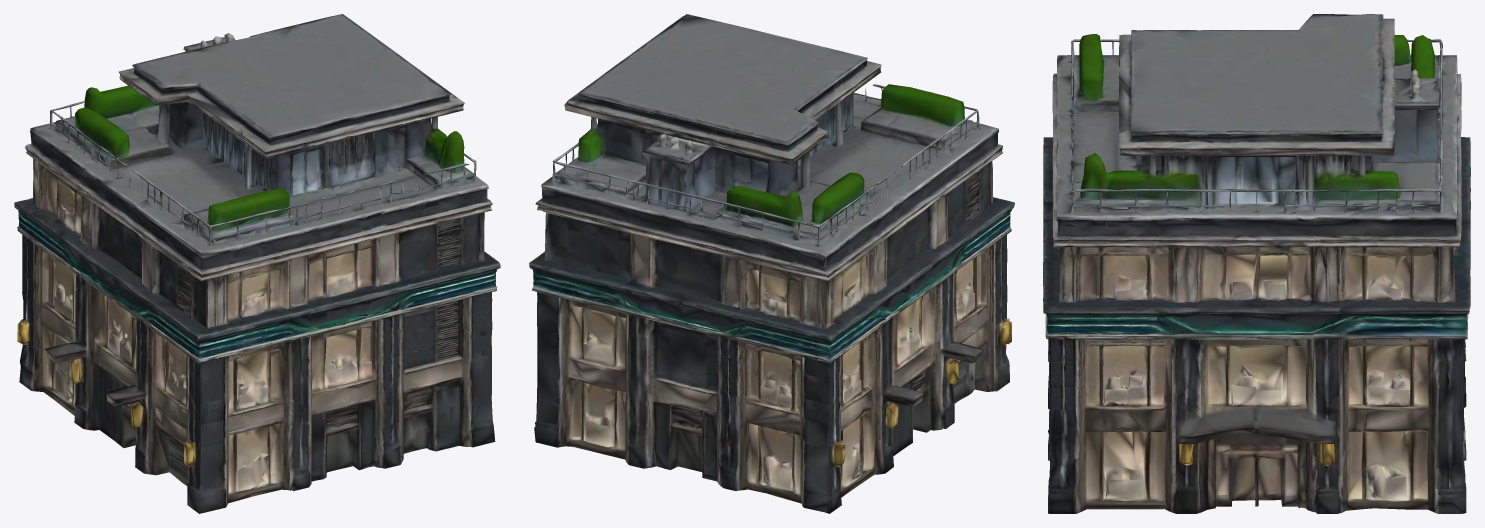
Rendered from au_bld_emporium.glb.
3 views of the same model, side by side, from view 1: azimuth 30°, elevation 25°; view 2: azimuth 150°, elevation 25°; view 3: azimuth 270°, elevation 25° (orthographic). The views are drawn at different scales.
Parts seen in each view (by area): view 1: tripo_node_2c83734f-9e3d-4af6-a690-40f0e76608e9; view 2: tripo_node_2c83734f-9e3d-4af6-a690-40f0e76608e9; view 3: tripo_node_2c83734f-9e3d-4af6-a690-40f0e76608e9.
Part boxes in pixels (bbox=[...]): tripo_node_2c83734f-9e3d-4af6-a690-40f0e76608e9: bbox=[14, 14, 500, 513]; tripo_node_2c83734f-9e3d-4af6-a690-40f0e76608e9: bbox=[529, 14, 1014, 513]; tripo_node_2c83734f-9e3d-4af6-a690-40f0e76608e9: bbox=[1043, 14, 1470, 513].
Bounding box in the file's own units: 0.9786 × 0.8598 × 0.8837.
1 material, 1 textured.
